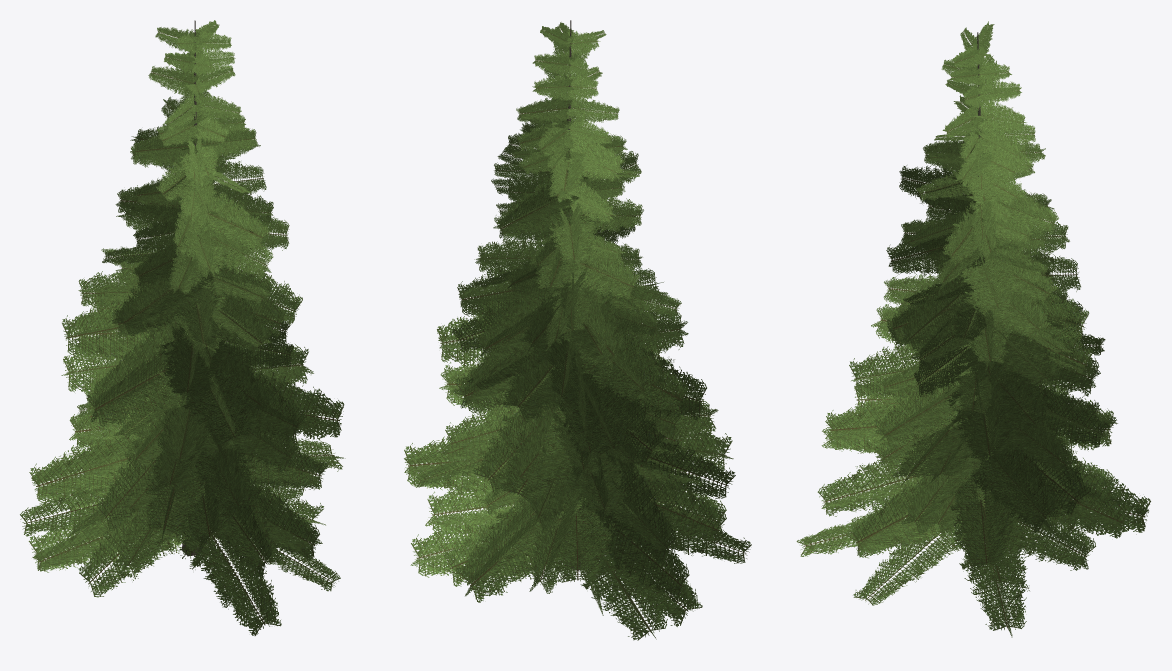
Rendered from tree_spruce_v1_l1.glb.
3 renders of one model, left to right at view 1: azimuth 30°, elevation 25°; view 2: azimuth 150°, elevation 25°; view 3: azimuth 270°, elevation 25°, orthographic. The views are drawn at different scales.
Parts seen in each view (by area): view 1: tree_spruce_v1_l1; view 2: tree_spruce_v1_l1; view 3: tree_spruce_v1_l1.
Part boxes in pixels (x1=…): tree_spruce_v1_l1: x1=20, y1=20, x2=345, y2=635; tree_spruce_v1_l1: x1=404, y1=20, x2=751, y2=640; tree_spruce_v1_l1: x1=796, y1=21, x2=1150, y2=637.
Size of the model in its own units: 7.83 by 14.09 by 8.25.
2 materials, 2 textured.
